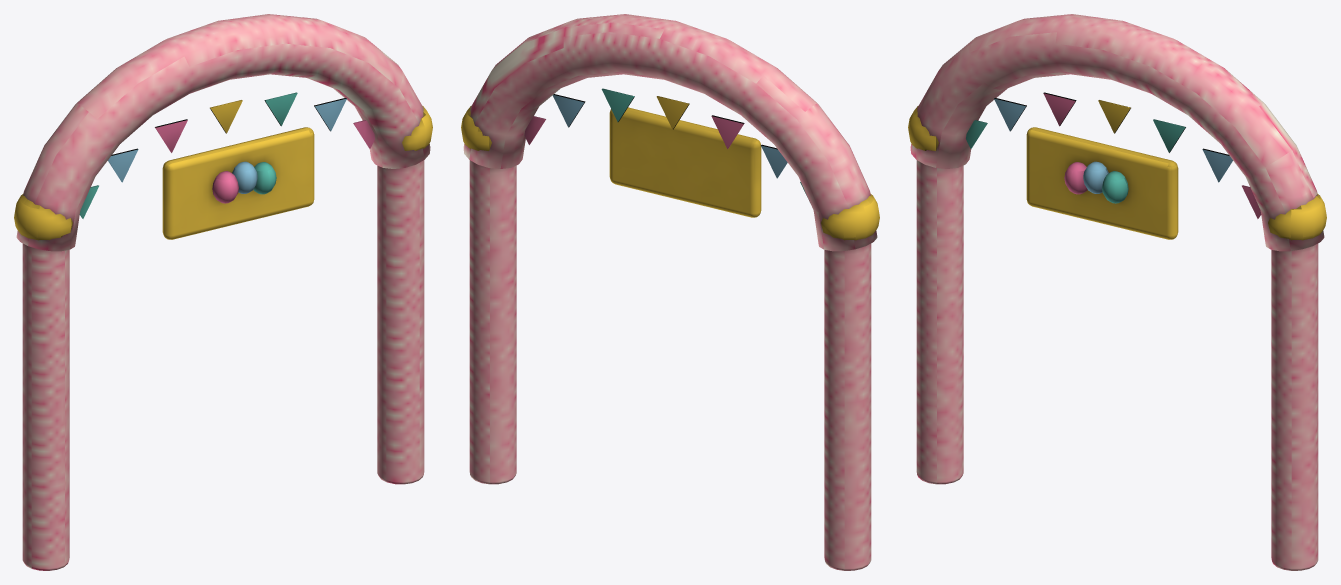
Rendered from GateCarnival.fbx.
3 renders of one model, left to right at view 1: azimuth 30°, elevation 25°; view 2: azimuth 150°, elevation 25°; view 3: azimuth 330°, elevation 25°, orthographic.
Visible parts, largest first — view 1: GateCarnival_Body; view 2: GateCarnival_Body; view 3: GateCarnival_Body.
Part boxes in pixels (x1,y1,x2,y2): GateCarnival_Body: [14, 14, 432, 570]; GateCarnival_Body: [461, 14, 879, 570]; GateCarnival_Body: [908, 14, 1326, 570].
Bounding box in the file's own units: 4.4 × 5.08 × 0.81.
